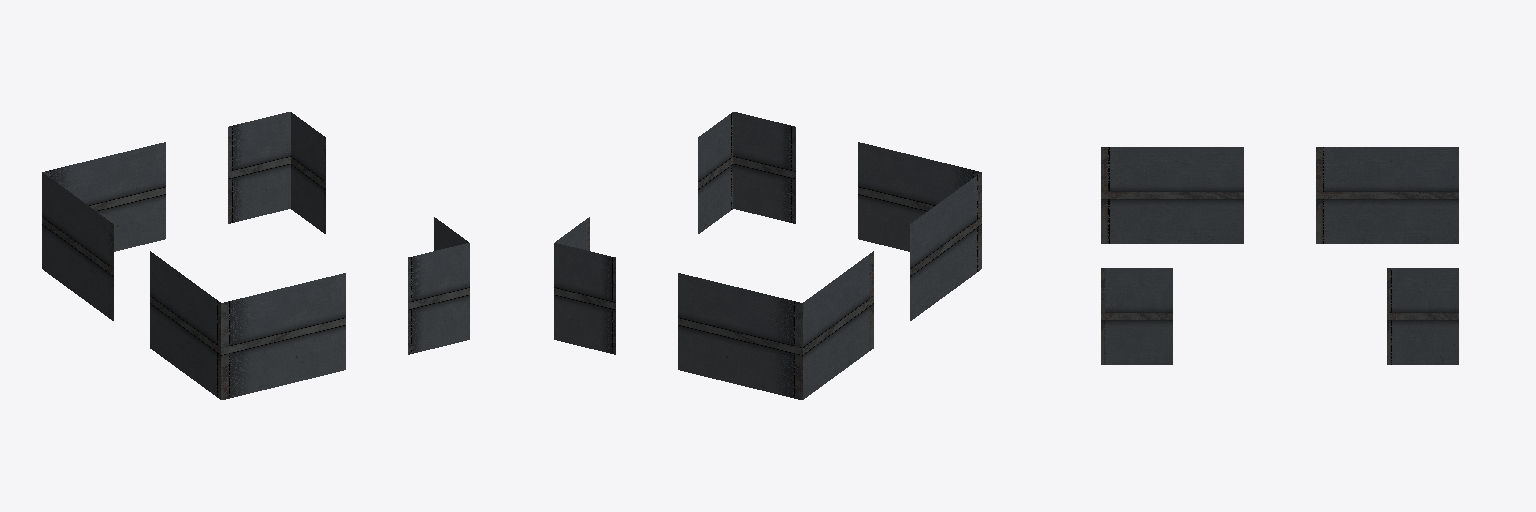
The picture shows the model from 3 angles: view 1: azimuth 30°, elevation 25°; view 2: azimuth 150°, elevation 25°; view 3: azimuth 270°, elevation 25°; orthographic projection.
Parts seen in each view (by area): view 1: Cube.001, Cube.004, Cube.003, Cube.002, Cube.005, Cube, Cube.006, Cube.007; view 2: Cube.004, Cube.001, Cube.002, Cube.003, Cube, Cube.005, Cube.007, Cube.006; view 3: Cube.002, Cube.003, Cube.006, Cube.007.
Part boxes in pixels (bbox=[...]): Cube.001: bbox=[221, 273, 345, 399]; Cube.004: bbox=[43, 142, 165, 251]; Cube.003: bbox=[42, 172, 113, 320]; Cube.002: bbox=[150, 251, 220, 399]; Cube.005: bbox=[228, 112, 290, 223]; Cube: bbox=[408, 243, 469, 354]; Cube.006: bbox=[291, 112, 325, 233]; Cube.007: bbox=[434, 217, 468, 250]; Cube.004: bbox=[678, 273, 802, 399]; Cube.001: bbox=[858, 142, 980, 251]; Cube.002: bbox=[910, 172, 981, 320]; Cube.003: bbox=[803, 251, 873, 399]; Cube: bbox=[733, 112, 795, 223]; Cube.005: bbox=[554, 243, 615, 354]; Cube.007: bbox=[698, 112, 732, 233]; Cube.006: bbox=[555, 217, 589, 250]; Cube.002: bbox=[1101, 147, 1243, 243]; Cube.003: bbox=[1316, 147, 1458, 243]; Cube.006: bbox=[1387, 268, 1458, 364]; Cube.007: bbox=[1101, 268, 1172, 364].
Bounding box in the file's own units: 16 × 6 × 20.
Materials: 8 (1 with a texture image).